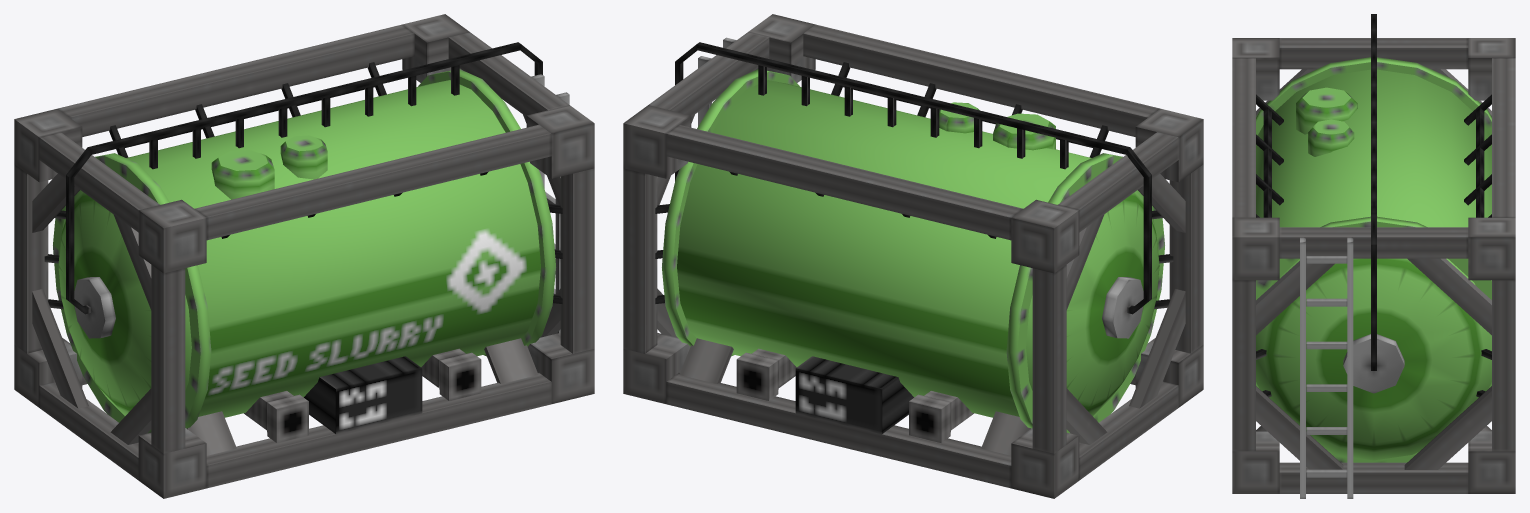
Rendered from machine_fluidtank_fluid_87.obj.
The picture shows the model from 3 angles, left to right: view 1: azimuth 30°, elevation 25°; view 2: azimuth 150°, elevation 25°; view 3: azimuth 270°, elevation 25°; orthographic projection. The views are drawn at different scales.
Visible parts, largest first — view 1: Frame, Tank; view 2: Frame, Tank; view 3: Frame, Tank.
Part boxes in pixels (left/top/right/bottom): Frame: left=14, top=14, right=594, bottom=498; Tank: left=53, top=69, right=555, bottom=433; Frame: left=623, top=14, right=1203, bottom=498; Tank: left=662, top=69, right=1164, bottom=433; Frame: left=1232, top=14, right=1515, bottom=498; Tank: left=1256, top=57, right=1491, bottom=462.
Size of the model in its own units: 5.5 by 3.28 by 3.
